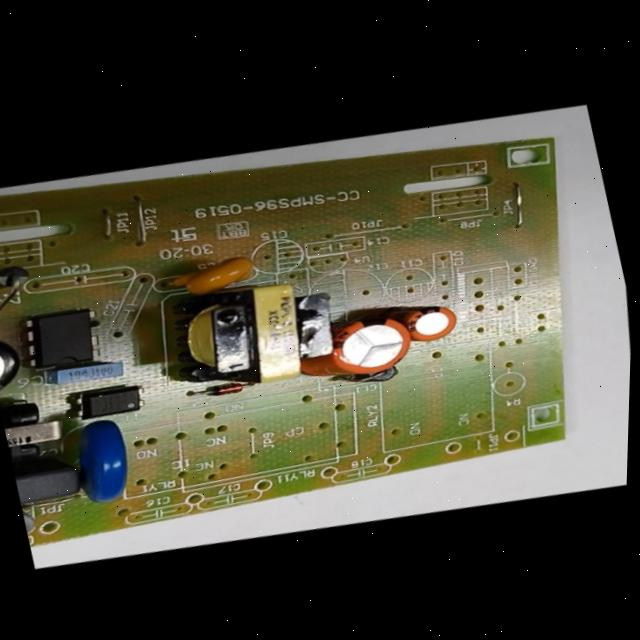Cap1: (321, 304, 418, 388)
Cap2: (398, 296, 465, 349)
MOSFET: (15, 300, 109, 378)
Mov: (71, 413, 144, 509)
Resistor: (21, 503, 41, 542)
Transformer: (156, 263, 349, 412), (0, 388, 71, 474)
